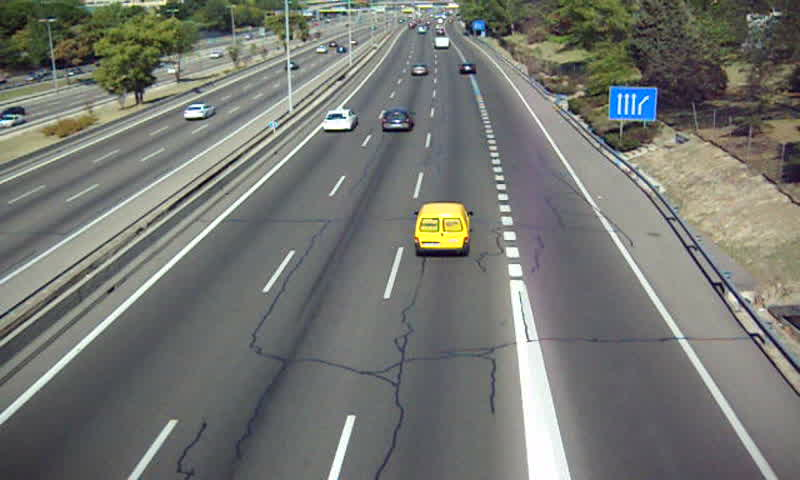car: (321, 109, 358, 134), (380, 108, 415, 134), (458, 62, 478, 76), (410, 64, 429, 78)
van: (413, 203, 470, 258)
